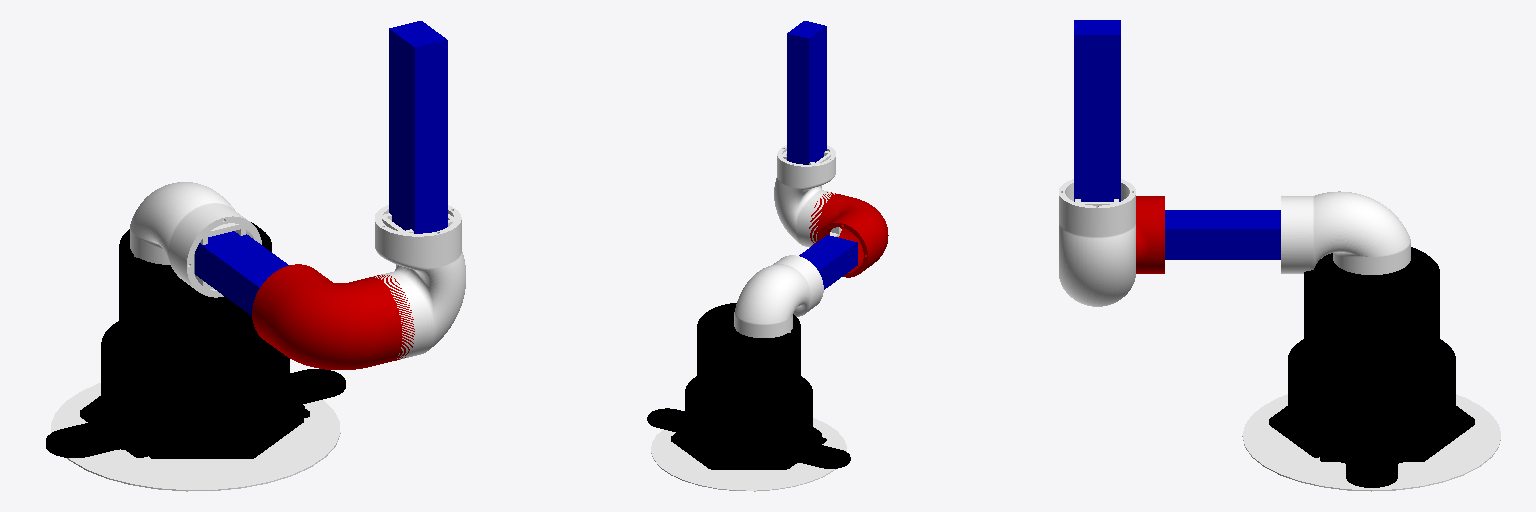
URDF robot description (node42):
<?xml version="1.0"?>
<robot  name="node42" >
 <material  name="blue" >
  <color  rgba="0 0 0.8 1.0" />
 </material>
 <material  name="red" >
  <color  rgba="0.8 0 0 1.0" />
 </material>
 <material  name="white" >
  <color  rgba="1.0 1.0 1.0 0.4" />
 </material>
 <material  name="black" >
  <color  rgba="0.0 0.0 0.0 1.0" />
 </material>
 <link  name="root_mod" >
  <visual >
   <origin  xyz="0 0 0"  rpy="0 0 0" />
   <material  name="white" />
   <geometry >
    <cylinder  length="0.001"  radius="0.1" />
   </geometry>
  </visual>
 </link>
 <link  name="baseMod_1" >
  <inertial >
   <origin  xyz="0.0 1.2212453270876722e-17 0.055"  rpy="1.5707963267948963 0.0 0.0" />
   <mass  value="1.245" />
   <inertia  iyz="1.5e-05"  ixx="0.002797"  ixz="-0.0"  ixy="-0.0"  izz="0.003107"  iyy="0.002417" />
  </inertial>
  <visual >
   <origin  xyz="0.0 1.2212453270876722e-17 0.055"  rpy="1.5707963267948963 0.0 0.0" />
   <material  name="black" />
   <geometry >
    <mesh  filename="./meshes/base-big-360.obj"  scale="0.001 0.001 0.001" />
   </geometry>
  </visual>
 </link>
 <joint  name="joint_1_fixed"  type="fixed" >
  <parent  link="root_mod" />
  <child  link="baseMod_1" />
  <origin  xyz="0.0 0.0 0.01"  rpy="0 0 0" />
  <limit  velocity="10"  upper="3.14"  effort="50"  lower="-3.14" />
 </joint>
 <link  name="connMod_2" >
  <inertial >
   <origin  xyz="0.0 4.440892098500626e-18 0.02"  rpy="1.5707963267948963 0.0 0.0" />
   <mass  value="0.263" />
   <inertia  iyz="-1.5e-05"  ixx="0.000226"  ixz="-0.0"  ixy="0.0"  izz="0.000125"  iyy="0.00023" />
  </inertial>
  <visual >
   <origin  xyz="0.0 4.440892098500626e-18 0.02"  rpy="1.5707963267948963 0.0 0.0" />
   <material  name="white" />
   <geometry >
    <mesh  filename="./meshes/90-connector.obj"  scale="0.001 0.001 0.001" />
   </geometry>
  </visual>
 </link>
 <joint  name="joint_2_revolute"  type="revolute" >
  <parent  link="baseMod_1" />
  <child  link="connMod_2" />
  <origin  xyz="-0.0175 2.964295475749168e-17 0.1335"  rpy="0 0 0" />
  <axis  xyz="0.0 0.0 1.0" />
  <limit  effort="50"  upper="3.14"  velocity="10"  lower="-3.14" />
 </joint>
 <transmission  name="act_joint_2_revolute" >
  <type  xmltext="SimpleTransmission" >
   SimpleTransmission
  </type>
  <actuator  name="trans_joint_2_revolute" >
   <mechanicalreduction  xmltext="1" >
    1
   </mechanicalreduction>
  </actuator>
  <joint  name="joint_2_revolute" />
 </transmission>
 <link  name="linkMod_3" >
  <inertial >
   <origin  xyz="-1.3766765505351941e-17 0.062 0.0"  rpy="0.0 0.0 -1.5707963267948963" />
   <mass  value="0.05" />
   <inertia  iyz="0.0"  ixx="6.5e-05"  ixz="0.0"  ixy="0.0"  izz="0.000206"  iyy="0.000206" />
  </inertial>
  <visual >
   <origin  xyz="-1.3766765505351941e-17 0.062 0.0"  rpy="0.0 0.0 -1.5707963267948963" />
   <material  name="blue" />
   <geometry >
    <mesh  filename="./meshes/link-100.obj"  scale="0.001 0.001 0.001" />
   </geometry>
  </visual>
 </link>
 <joint  name="joint_3_fixed"  type="fixed" >
  <parent  link="connMod_2" />
  <child  link="linkMod_3" />
  <origin  xyz="0.0 -0.05999999999999999 0.020000000000000014"  rpy="0 0 0" />
  <axis  xyz="0.0 -1.0 0.0" />
  <limit  velocity="10"  upper="3.14"  effort="50"  lower="-3.14" />
 </joint>
 <link  name="jointMod_4" >
  <inertial >
   <origin  xyz="-1.1546319456101627e-17 -0.052 0.0"  rpy="0.0 0.0 1.5707963267948963" />
   <mass  value="0.184" />
   <inertia  iyz="0.0"  ixx="7.8e-05"  ixz="-0.0"  ixy="-1.3e-05"  izz="9e-05"  iyy="7.8e-05" />
  </inertial>
  <visual >
   <origin  xyz="-1.1546319456101627e-17 -0.052 0.0"  rpy="0.0 0.0 1.5707963267948963" />
   <material  name="red" />
   <geometry >
    <mesh  filename="./meshes/90-joint.obj"  scale="0.001 0.001 0.001" />
   </geometry>
  </visual>
 </link>
 <joint  name="joint_4_fixed"  type="fixed" >
  <parent  link="linkMod_3" />
  <child  link="jointMod_4" />
  <origin  xyz="2.2204460492503132e-17 -0.1 0.0"  rpy="0 0 0" />
  <axis  xyz="0.0 -1.0 0.0" />
  <limit  effort="50"  upper="3.14"  velocity="10"  lower="-3.14" />
 </joint>
 <link  name="connMod_5" >
  <inertial >
   <origin  xyz="0.02 4.440892098500626e-18 0.0"  rpy="0.0 0.0 -1.5707963267948963" />
   <mass  value="0.263" />
   <inertia  iyz="-1.5e-05"  ixx="0.000226"  ixz="-0.0"  ixy="0.0"  izz="0.000125"  iyy="0.00023" />
  </inertial>
  <visual >
   <origin  xyz="0.02 4.440892098500626e-18 0.0"  rpy="0.0 0.0 -1.5707963267948963" />
   <material  name="white" />
   <geometry >
    <mesh  filename="./meshes/90-connector.obj"  scale="0.001 0.001 0.001" />
   </geometry>
  </visual>
 </link>
 <joint  name="joint_5_revolute"  type="revolute" >
  <parent  link="jointMod_4" />
  <child  link="connMod_5" />
  <origin  xyz="0.051999999999999984 -0.05200000000000001 0.0"  rpy="0 0 0" />
  <axis  xyz="1.0 -0.0 0.0" />
  <limit  velocity="10"  upper="3.14"  effort="50"  lower="-3.14" />
 </joint>
 <transmission  name="act_joint_5_revolute" >
  <type  xmltext="SimpleTransmission" >
   SimpleTransmission
  </type>
  <actuator  name="trans_joint_5_revolute" >
   <mechanicalreduction  xmltext="1" >
    1
   </mechanicalreduction>
  </actuator>
  <joint  name="joint_5_revolute" />
 </transmission>
 <link  name="linkMod_6" >
  <inertial >
   <origin  xyz="-1.3766765505351941e-17 0.0 -0.062"  rpy="0.0 -1.5707963267948966 0.0" />
   <mass  value="0.167" />
   <inertia  iyz="0.0"  ixx="2.7e-05"  ixz="0.0"  ixy="0.0"  izz="0.000331"  iyy="0.000322" />
  </inertial>
  <visual >
   <origin  xyz="-1.3766765505351941e-17 0.0 -0.062"  rpy="0.0 -1.5707963267948966 0.0" />
   <material  name="blue" />
   <geometry >
    <mesh  filename="./meshes/link-150.obj"  scale="0.001 0.001 0.001" />
   </geometry>
  </visual>
 </link>
 <joint  name="joint_6_fixed"  type="fixed" >
  <parent  link="connMod_5" />
  <child  link="linkMod_6" />
  <origin  xyz="0.02 4.440892098500626e-18 0.06"  rpy="0 0 0" />
  <axis  xyz="0.0 0.0 1.0" />
  <limit  effort="50"  upper="3.14"  velocity="10"  lower="-3.14" />
 </joint>
 <link  name="eef" />
 <joint  name="eef_joint"  type="fixed" >
  <parent  link="linkMod_6" />
  <child  link="eef" />
  <origin  xyz="3.3306690738754695e-17 0.0 0.15"  rpy="0 0 0" />
  <axis  xyz="0.0 0.0 1.0" />
  <limit  velocity="10"  upper="3.14"  effort="50"  lower="-3.14" />
 </joint>
</robot>

--- Facts derived from the render (not from the file) ---
The picture shows the robot from 3 angles, left to right: view 1: azimuth 30°, elevation 25°; view 2: azimuth 150°, elevation 25°; view 3: azimuth 270°, elevation 25°; orthographic projection.
Robot: node42 — 8 links, 7 joints (2 revolute, 5 fixed); root link root_mod; default pose: every joint at zero.
Links seen in each view (by area): view 1: baseMod_1, jointMod_4, linkMod_6, root_mod, connMod_5, connMod_2, linkMod_3; view 2: baseMod_1, linkMod_6, connMod_2, root_mod, connMod_5, jointMod_4, linkMod_3; view 3: baseMod_1, connMod_2, linkMod_6, root_mod, connMod_5, linkMod_3, jointMod_4.
Link boxes in pixels (bbox=[...]): baseMod_1: bbox=[46, 222, 345, 458]; jointMod_4: bbox=[252, 264, 414, 369]; linkMod_6: bbox=[389, 21, 447, 233]; root_mod: bbox=[51, 383, 340, 491]; connMod_5: bbox=[373, 205, 465, 359]; connMod_2: bbox=[130, 182, 261, 297]; linkMod_3: bbox=[195, 231, 288, 315]; baseMod_1: bbox=[647, 303, 850, 469]; linkMod_6: bbox=[787, 21, 826, 164]; connMod_2: bbox=[734, 255, 823, 337]; root_mod: bbox=[651, 418, 846, 491]; connMod_5: bbox=[774, 145, 841, 247]; jointMod_4: bbox=[809, 192, 888, 277]; linkMod_3: bbox=[799, 235, 857, 289]; baseMod_1: bbox=[1269, 247, 1474, 487]; connMod_2: bbox=[1281, 191, 1410, 274]; linkMod_6: bbox=[1074, 20, 1120, 201]; root_mod: bbox=[1242, 394, 1500, 491]; connMod_5: bbox=[1059, 179, 1135, 306]; linkMod_3: bbox=[1165, 210, 1280, 259]; jointMod_4: bbox=[1136, 196, 1164, 273].
Bounding box of the posed robot: 0.2326 × 0.342 × 0.374 m (x, y, z).
6 mesh visuals loaded from 5 distinct referenced files (5 OBJ).